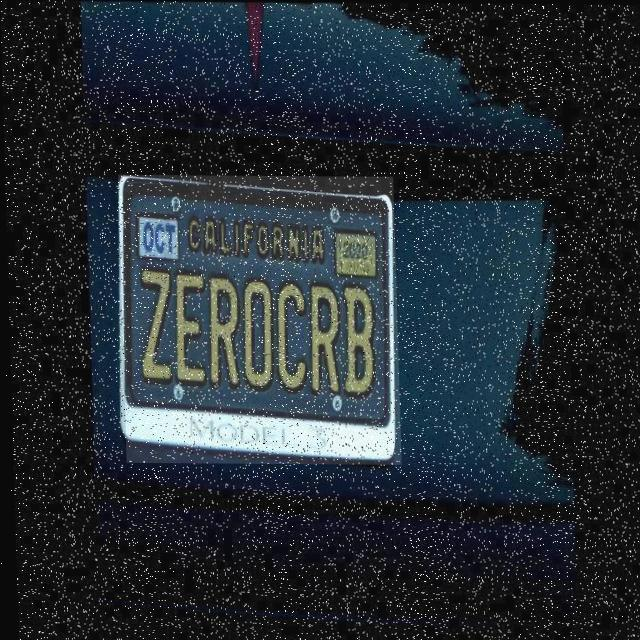LicensePlate: (117, 175, 399, 464)
